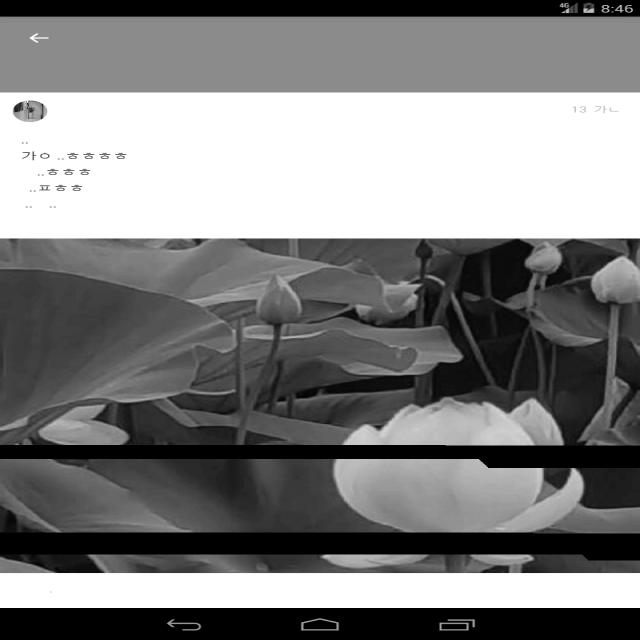ImageButton: (25, 32, 53, 44)
ImageView: (12, 102, 50, 121)
TextView: (15, 140, 126, 211)
